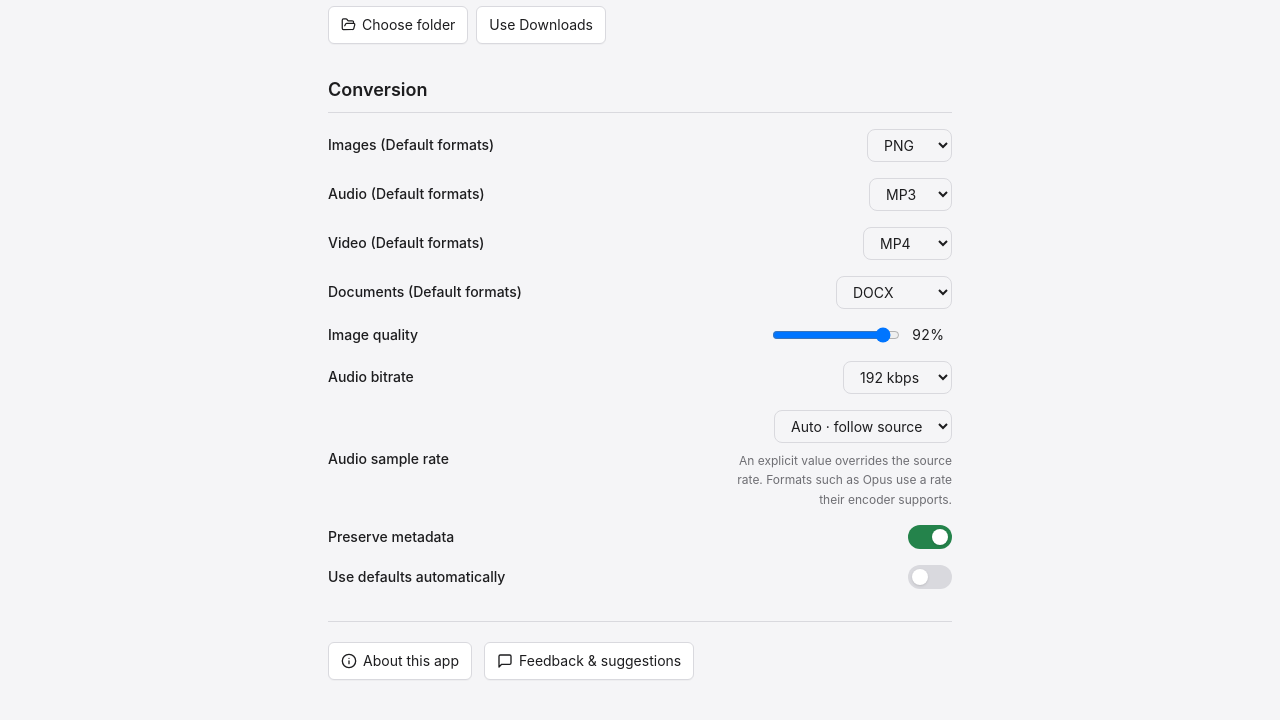
Test: settings and archives 1.4 › opens a feedback draft only on submission and does not attach paths/history
The image size is (1280, 720).
(page scrolled)
Click the button "Feedback & suggestions" at (589, 661), box [484,642,694,680]
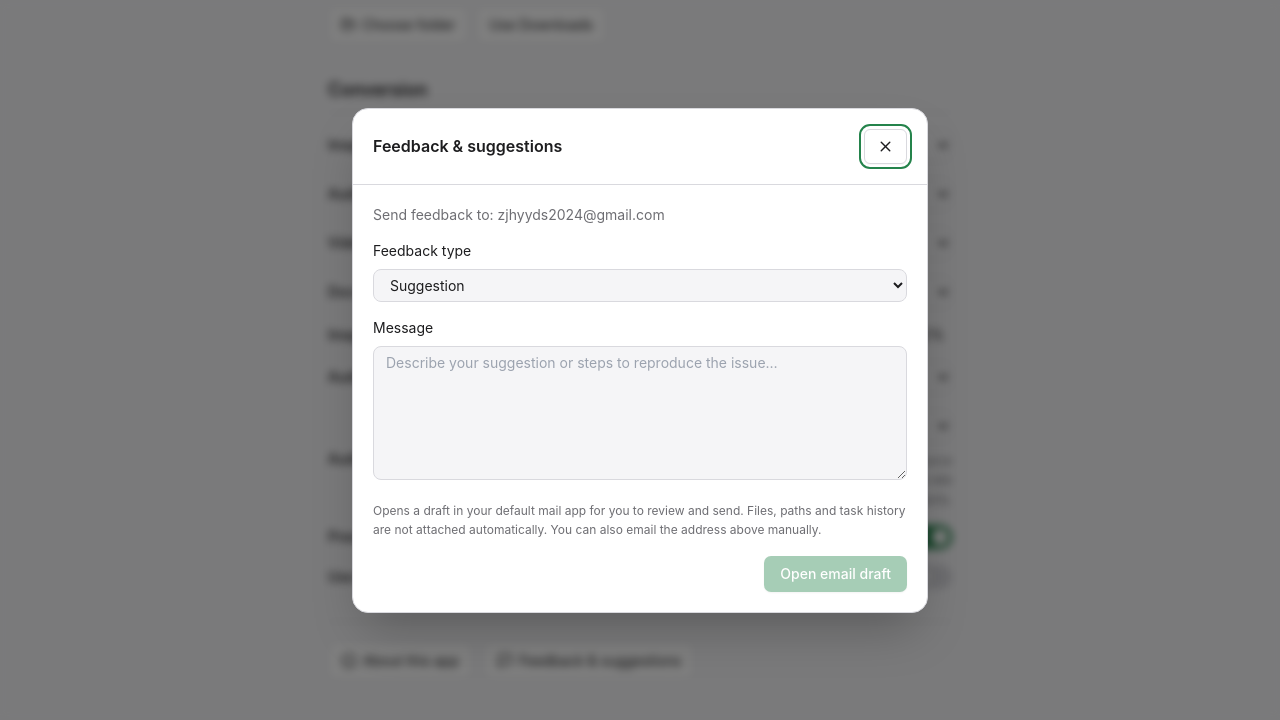
Expected: the text "zjhyyds2024@gmail.com" is shown, [498,206,665,222]
Expected: the button "Open email draft" is disabled, [764,556,907,592]
Type "Please add a new format" into the text box named "Feedback message" at (640, 412), box [373,346,907,480]
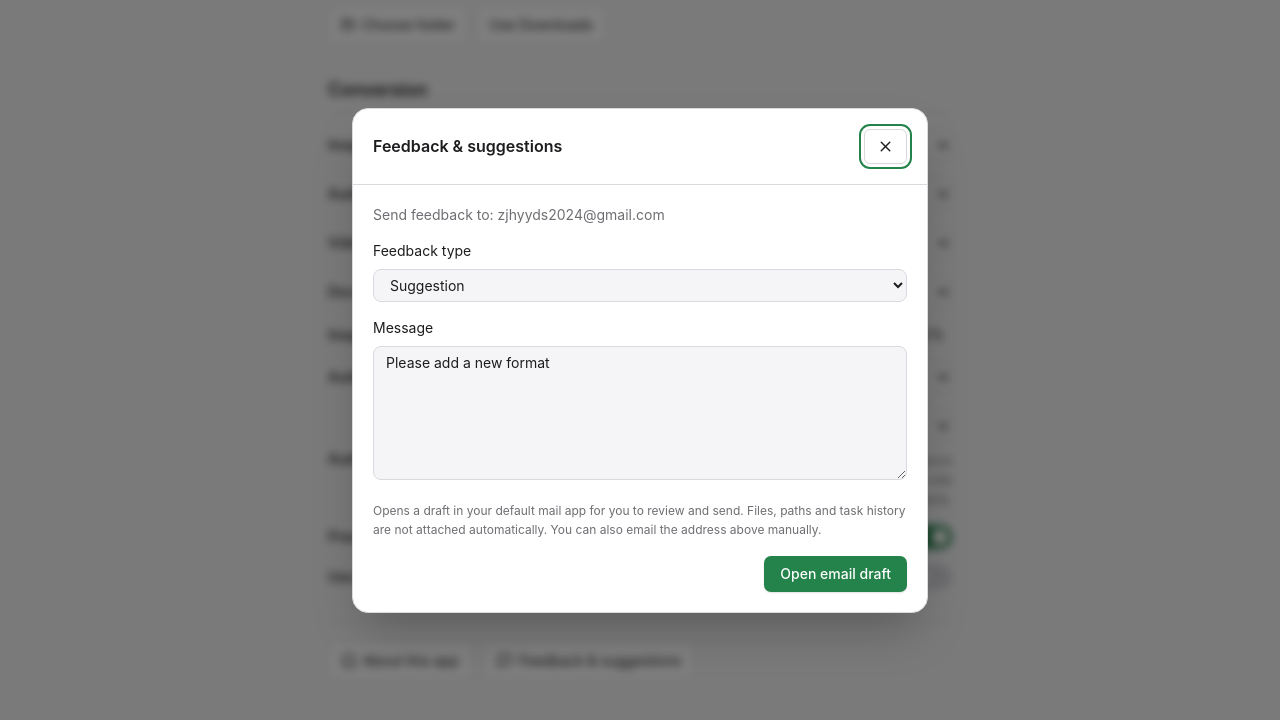
Click the button "Open email draft" at (836, 574), box [764,556,907,592]
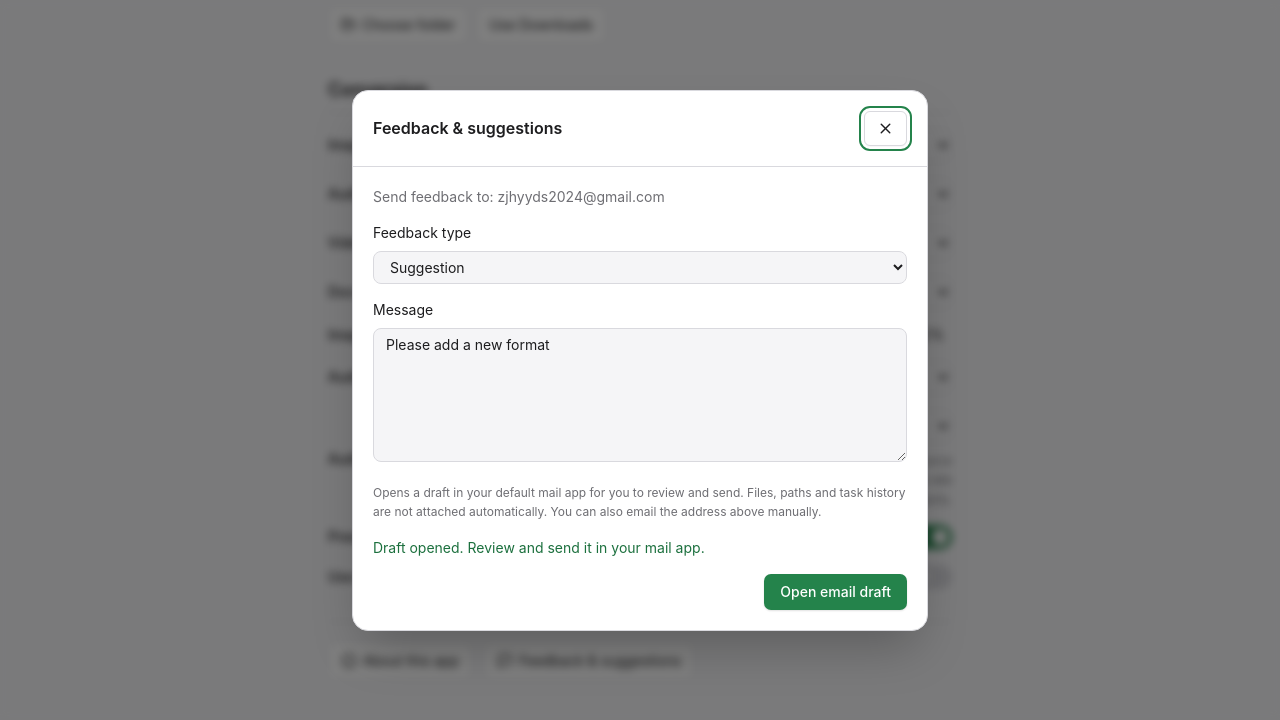
Expected: the message shows "Review and send", [373,538,705,556]
